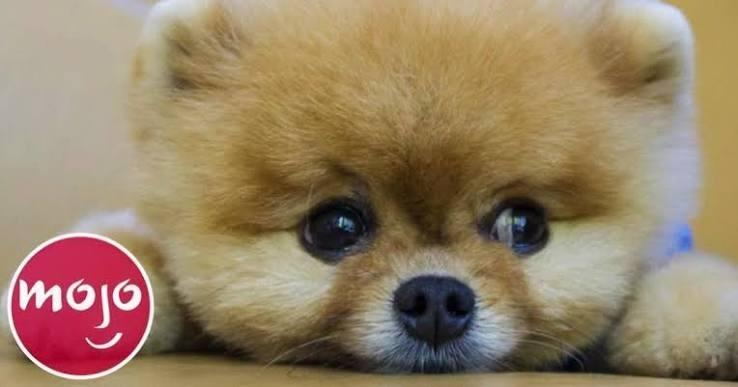puppy-dog: (0, 0, 738, 381)
